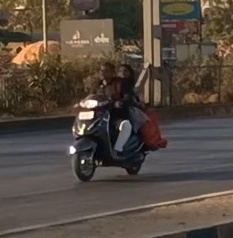BikeWithRider: (63, 55, 172, 185)
NoHelmet: (95, 58, 120, 84)
